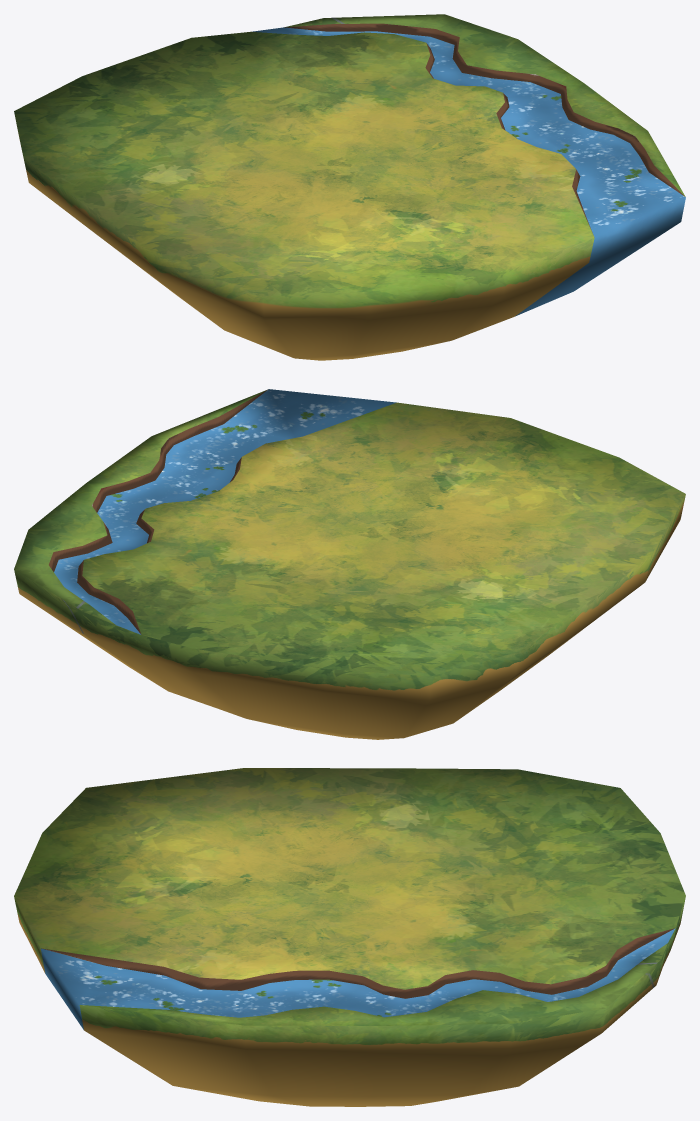
Rendered from IslandRiver.gltf.
The picture shows the model from 3 angles, top to bottom: view 1: azimuth 30°, elevation 25°; view 2: azimuth 150°, elevation 25°; view 3: azimuth 270°, elevation 25°; orthographic projection. The views are drawn at different scales.
Visible parts, largest first — view 1: IslandRiver; view 2: IslandRiver; view 3: IslandRiver.
Boxes of the visible parts, x1,y1,x2,y2 form: IslandRiver: (14,14,685,360); IslandRiver: (14,389,685,739); IslandRiver: (14,768,685,1106).
Size of the model in its own units: 60 by 18.24 by 66.02.
1 material, 1 textured.
